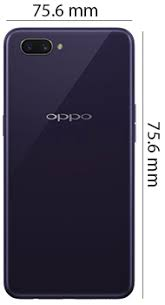oppo: (1, 22, 139, 301)
